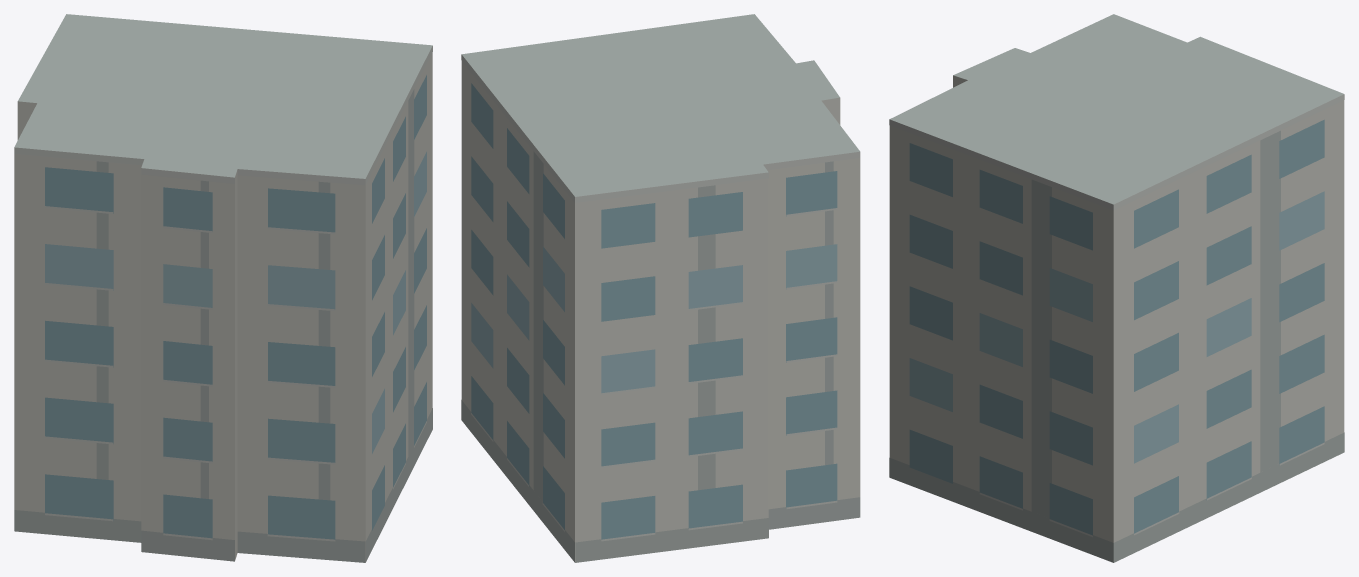
The model's file is survey-upis-32885746.glb.
3 views of the same model, side by side, from view 1: azimuth 30°, elevation 25°; view 2: azimuth 150°, elevation 25°; view 3: azimuth 270°, elevation 25° (orthographic). The views are drawn at different scales.
Parts seen in each view (by area): view 1: survey-upis-32885746.tmp; view 2: survey-upis-32885746.tmp; view 3: survey-upis-32885746.tmp.
Boxes of the visible parts, box(x1,y1,x2,y2) form: survey-upis-32885746.tmp: box(14, 14, 432, 562); survey-upis-32885746.tmp: box(461, 14, 860, 562); survey-upis-32885746.tmp: box(889, 14, 1344, 562).
Bounding box in the file's own units: 16.55 × 14.5 × 16.7.
